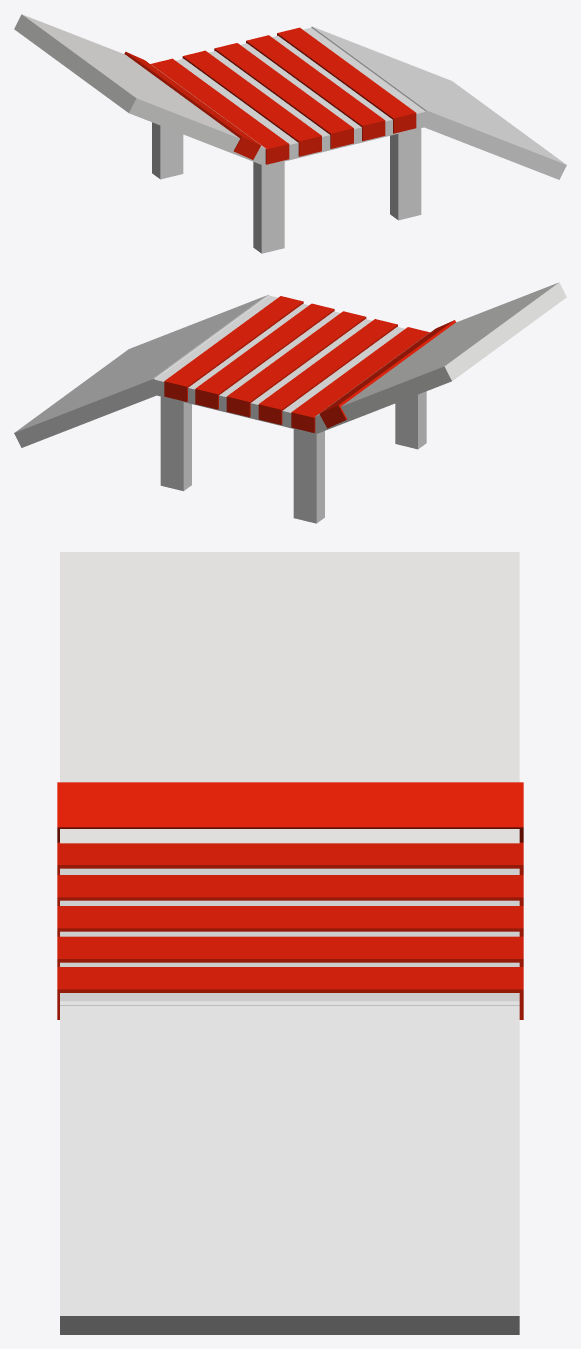
Rendered from Chair.fbx.
3 views of the same model, one above another, from view 1: azimuth 30°, elevation 25°; view 2: azimuth 150°, elevation 25°; view 3: azimuth 270°, elevation 25° (orthographic). The views are drawn at different scales.
Parts seen in each view (by area): view 1: Cube.003, Cube.004, Cube, Cube.008, Cube.010, Cube.009, Cube.011, Cube.007, Cube.002, Cube.006, Cube.005, Cube.012; view 2: Cube.003, Cube.004, Cube, Cube.009, Cube.008, Cube.010, Cube.011, Cube.007, Cube.005, Cube.001, Cube.002, Cube.012; view 3: Cube.004, Cube.003, Cube.012, Cube, Cube.010, Cube.011, Cube.007, Cube.008, Cube.009.
Boxes of the visible parts, x1,y1,x2,y2 form: Cube.003: [14, 14, 270, 167]; Cube.004: [311, 26, 566, 179]; Cube: [176, 27, 427, 166]; Cube.008: [182, 50, 321, 156]; Cube.010: [246, 35, 385, 141]; Cube.009: [214, 43, 353, 148]; Cube.011: [277, 27, 416, 133]; Cube.007: [150, 58, 289, 164]; Cube.002: [253, 161, 284, 253]; Cube.006: [390, 128, 421, 220]; Cube.005: [152, 122, 183, 179]; Cube.012: [124, 52, 260, 159]; Cube.003: [310, 282, 566, 435]; Cube.004: [14, 294, 269, 447]; Cube: [152, 295, 404, 434]; Cube.009: [226, 311, 366, 417]; Cube.008: [258, 319, 397, 424]; Cube.010: [195, 303, 334, 409]; Cube.011: [164, 296, 303, 401]; Cube.007: [291, 327, 429, 432]; Cube.005: [293, 429, 324, 523]; Cube.001: [160, 396, 191, 491]; Cube.002: [395, 391, 426, 449]; Cube.012: [319, 320, 455, 428]; Cube.004: [60, 1001, 519, 1334]; Cube.003: [60, 552, 519, 843]; Cube.012: [57, 782, 523, 842]; Cube: [60, 868, 519, 1005]; Cube.010: [57, 936, 523, 966]; Cube.011: [57, 967, 523, 1019]; Cube.007: [57, 842, 523, 874]; Cube.008: [57, 875, 523, 905]; Cube.009: [57, 906, 523, 936].
Bounding box in the file's own units: 440 × 182 × 203.
